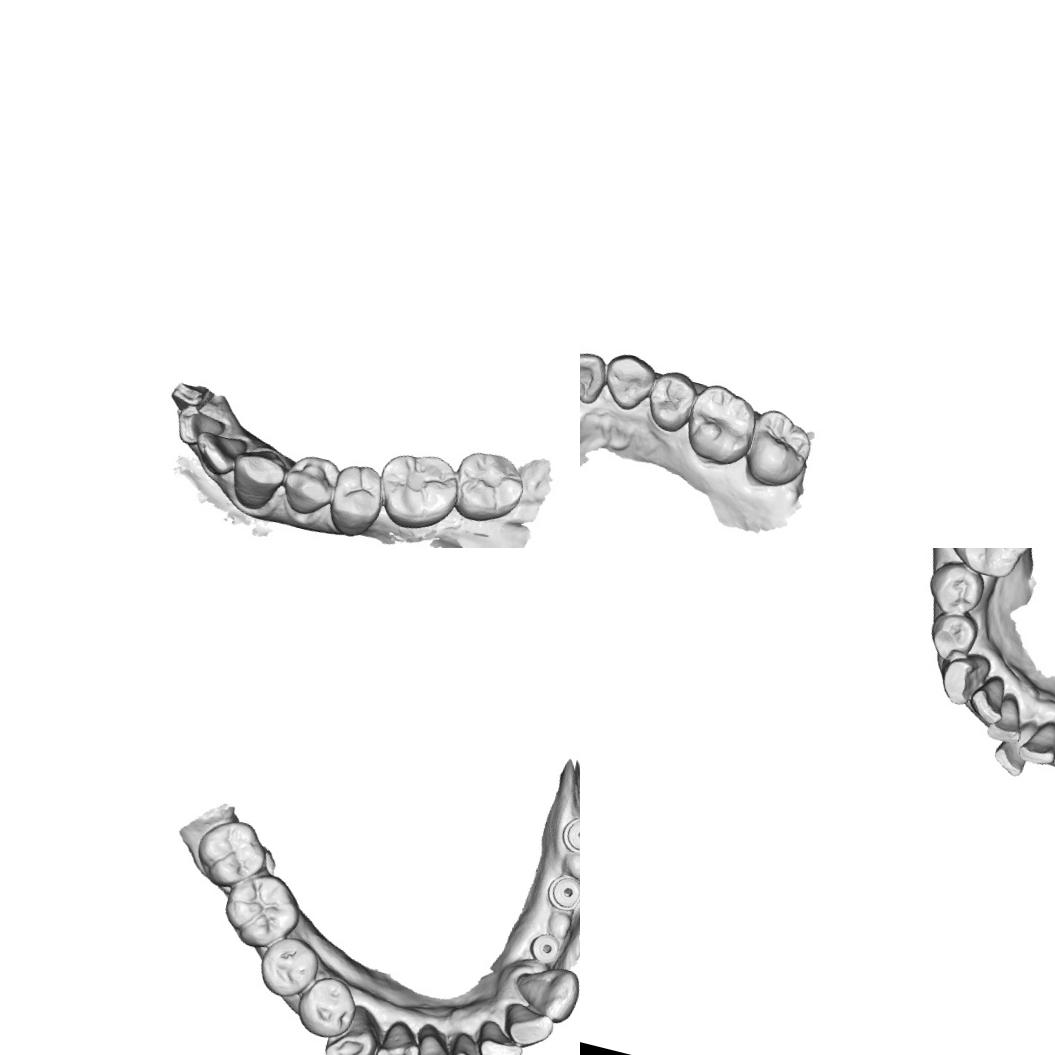canine: (222, 440, 292, 518), (506, 955, 580, 1026), (596, 348, 659, 415), (934, 644, 995, 712), (319, 997, 389, 1055)
implant: (524, 928, 568, 973), (543, 869, 580, 914), (557, 808, 580, 859)
incisor: (188, 425, 252, 483), (498, 999, 558, 1054), (988, 715, 1038, 779), (980, 688, 1034, 747), (172, 401, 232, 454), (962, 668, 1013, 730), (469, 1011, 531, 1055), (1014, 708, 1055, 769), (371, 1014, 429, 1055), (580, 344, 611, 406), (408, 1022, 463, 1055), (442, 1023, 495, 1055)
molar: (368, 442, 466, 538), (212, 863, 307, 957), (442, 442, 532, 534), (186, 810, 278, 896), (679, 378, 763, 472), (740, 404, 818, 493), (940, 548, 1042, 587)
premolar: (322, 457, 395, 544), (251, 928, 325, 1004), (290, 968, 364, 1044), (274, 446, 345, 524), (920, 555, 990, 624), (642, 365, 700, 436), (922, 605, 982, 669)
